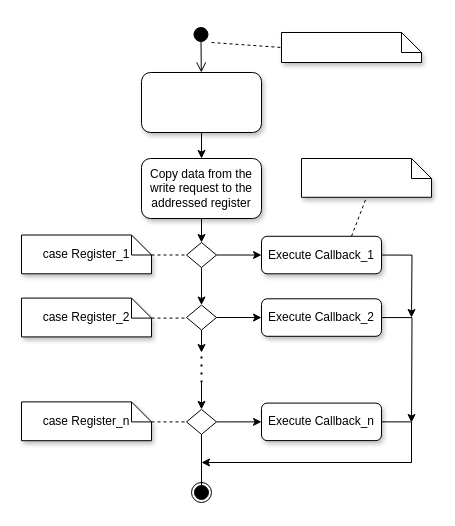
Some shapes in this 455 by 526 pixel diagram are drawn without their labels. Here are the shapes that lost their labels. From the top down, the centre of each, then its label:
At point 352,49: "Write(<addr>,<data>)".
At point 202,104: "Calculate the index of the register from the given address".
At point 367,179: "E.g. set the state of a GPIO pin".
